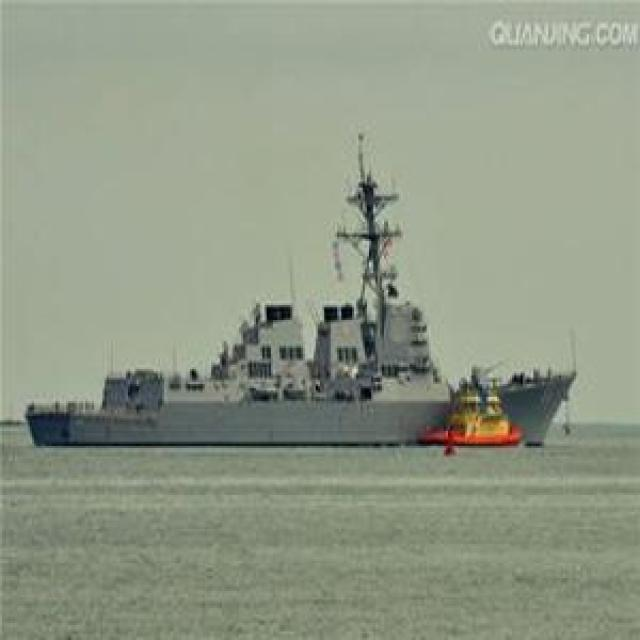navalvessels: (8, 186, 570, 450), (438, 355, 521, 435)
